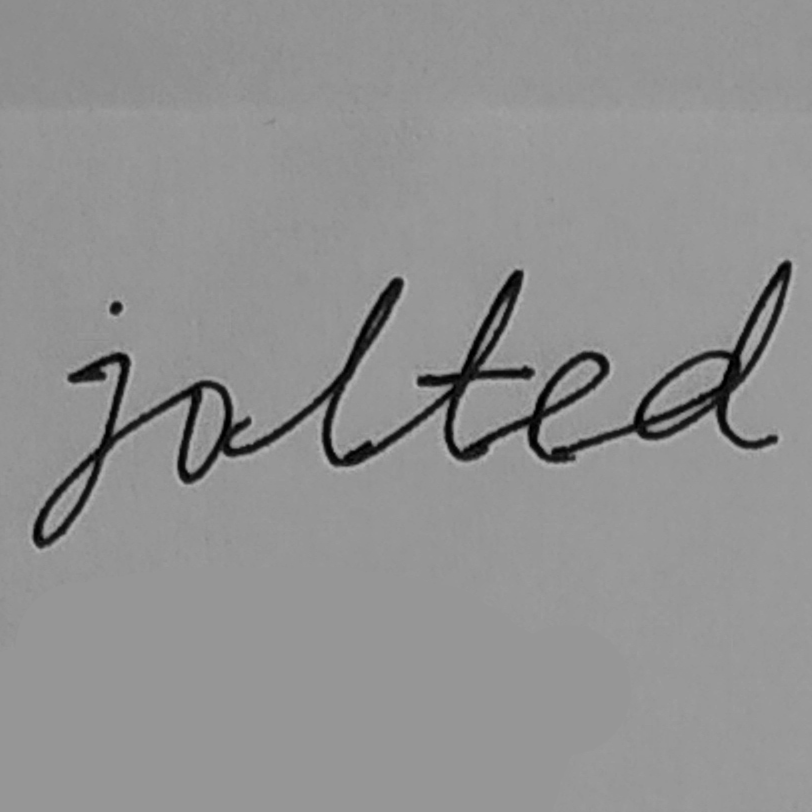d: (630, 257, 794, 454)
e: (525, 348, 613, 466)
j: (28, 347, 134, 553)
l: (317, 274, 406, 471)
o: (173, 377, 235, 489)
t: (414, 266, 538, 464)
